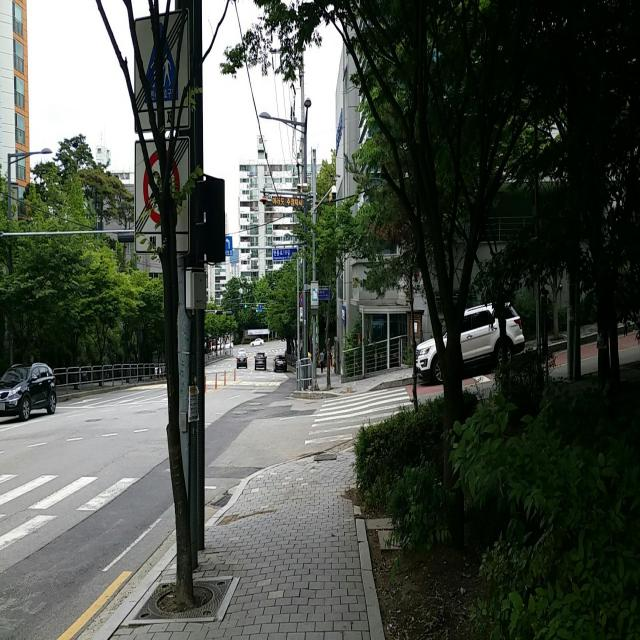횡단보도: (2, 473, 163, 572), (304, 387, 414, 446)
